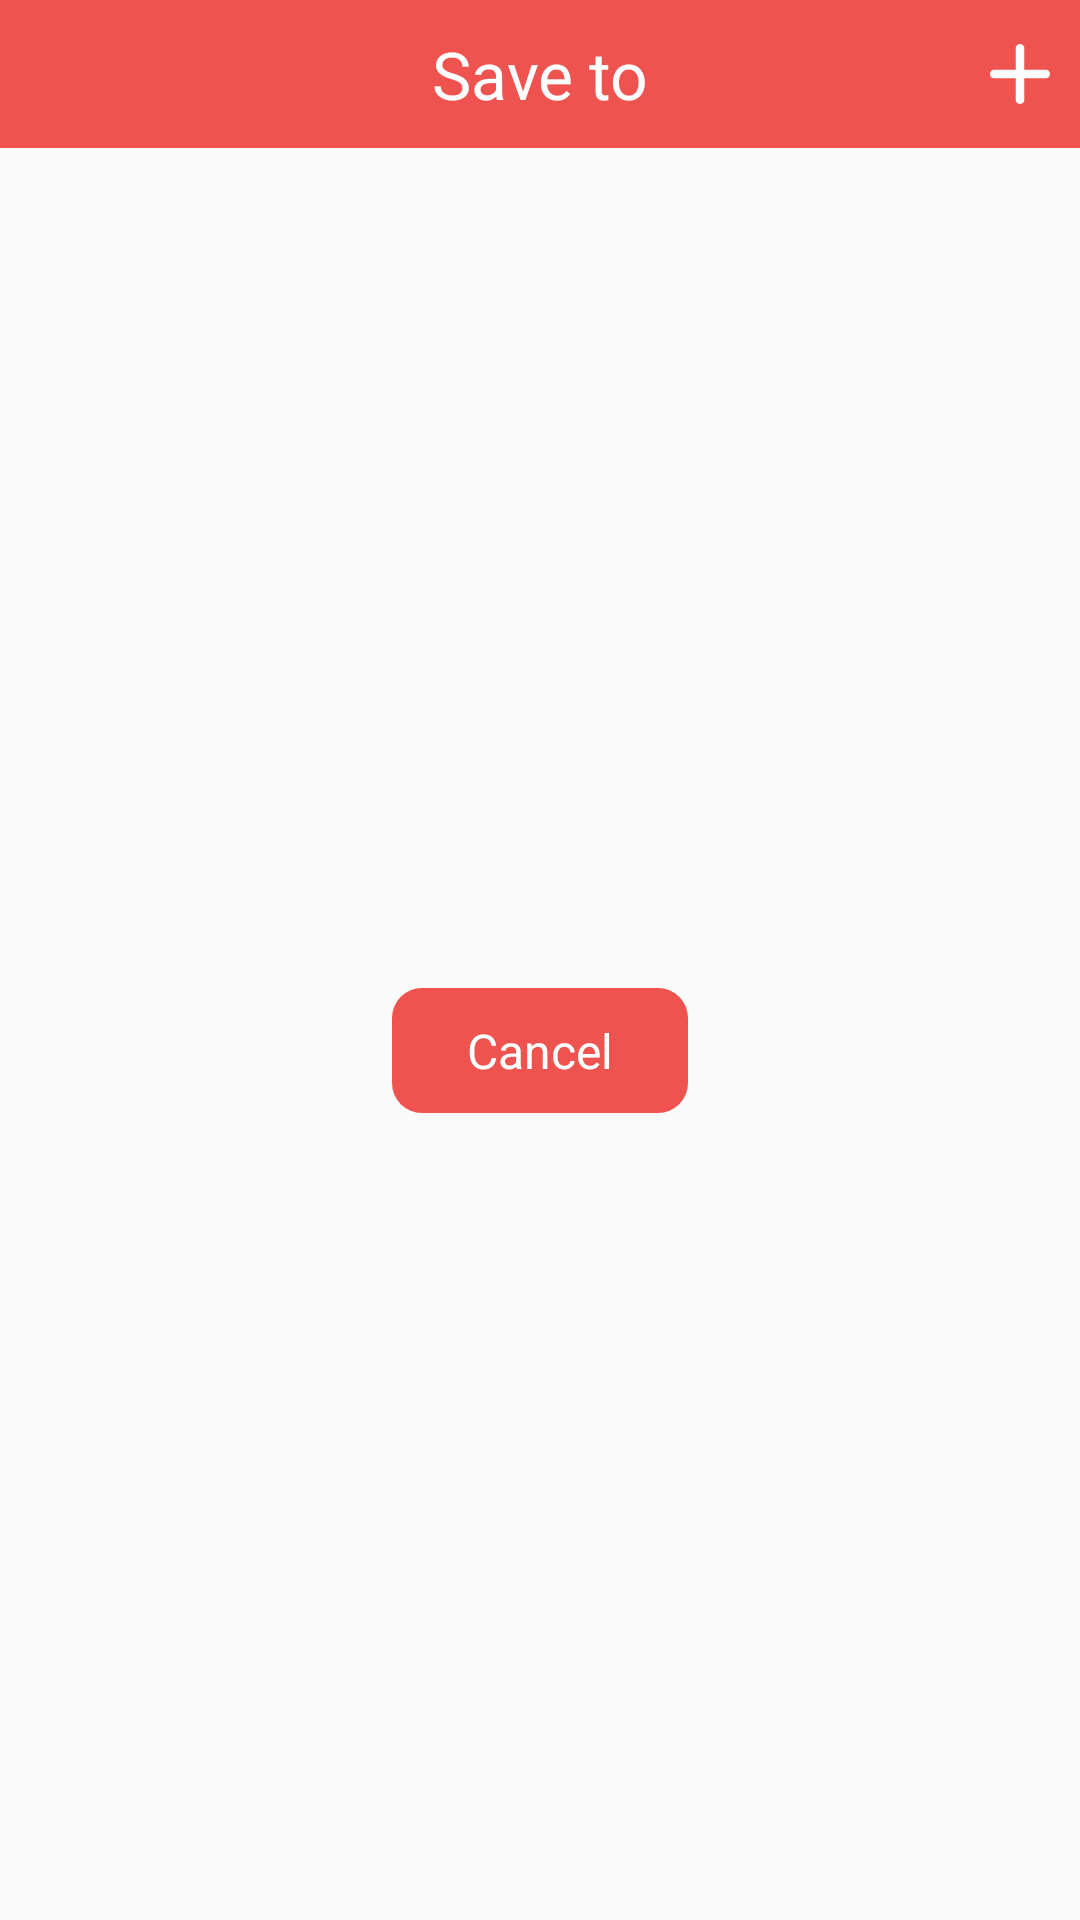

Where icons sit on this 1080px×1920px app screen, as (x1, y1, x2, y2):
plus: (990, 44, 1050, 104)
